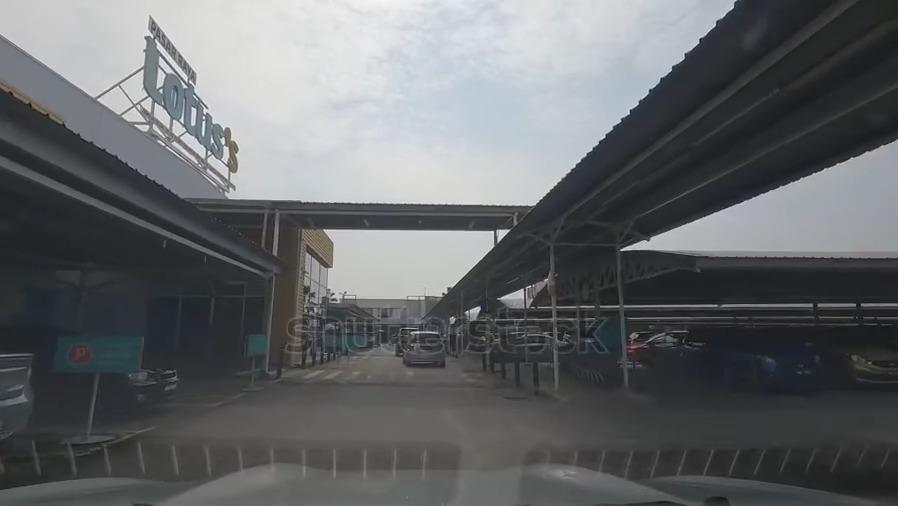car: (6, 317, 180, 419), (681, 320, 820, 387), (818, 320, 898, 386), (1, 343, 37, 450), (489, 332, 568, 363), (625, 330, 691, 360), (404, 329, 444, 367), (396, 325, 423, 354)
pedestrian: (284, 364, 499, 391)
